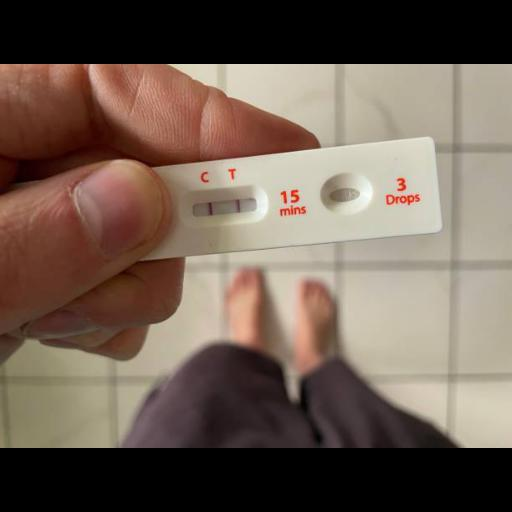Pos: (126, 136, 441, 261)
